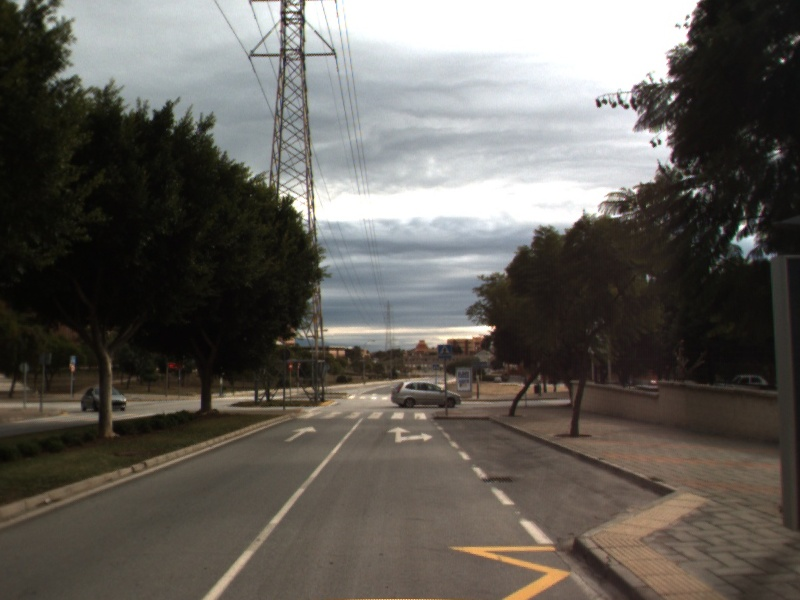STRAIGHT: (282, 424, 319, 443)
STRAIGHT_RIGHT: (385, 424, 435, 445)
